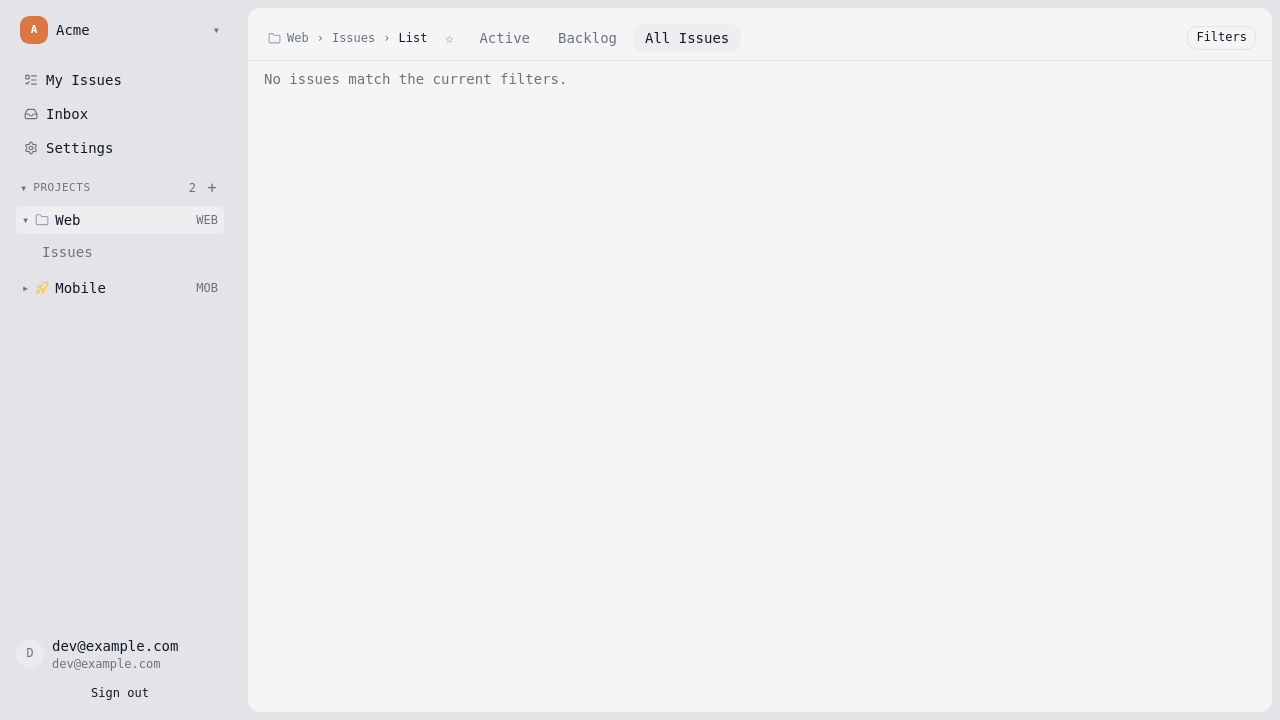
rail IA › backing out of creation returns to the project
Check: the button "▾ Web WEB" is shown, box top-left (16, 206), bottom-right (224, 234)
Click the button named "new project": x=212, y=188 top-left (200, 176), bottom-right (224, 200)
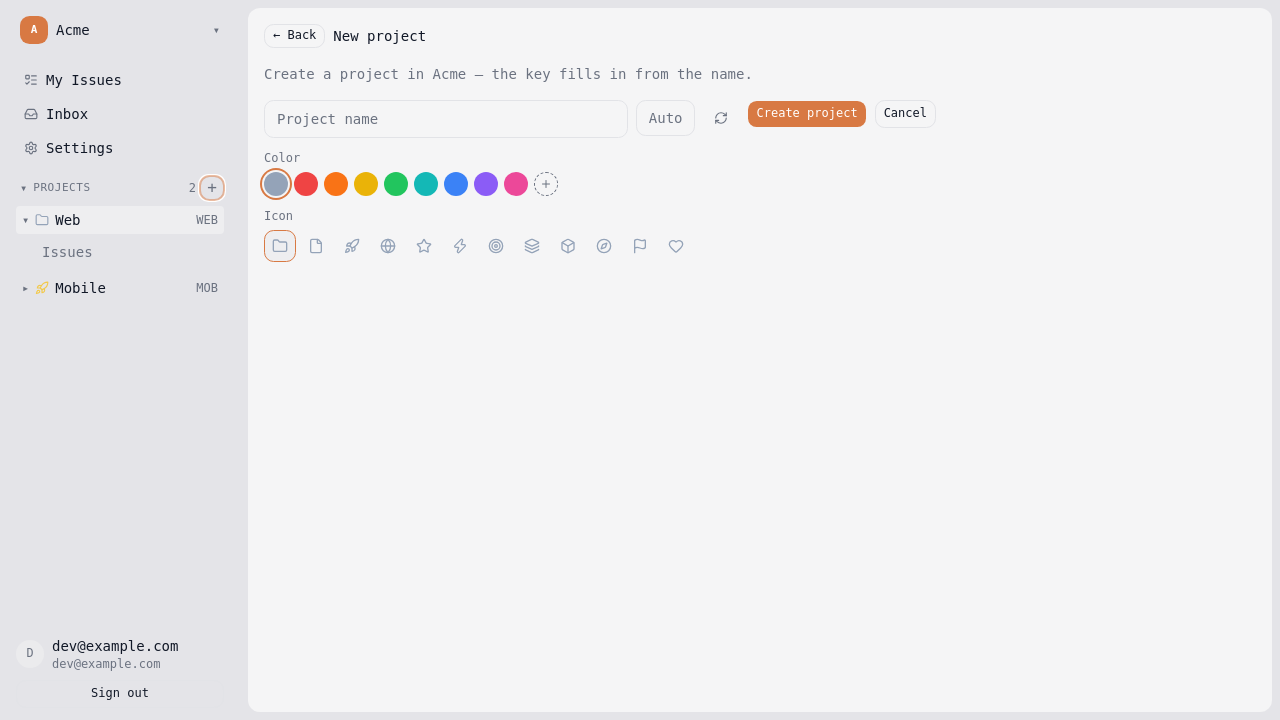
Check: the element "New project" is shown, box top-left (264, 24), bottom-right (936, 262)
Click the button "← Back": x=295, y=36 top-left (264, 24), bottom-right (325, 48)
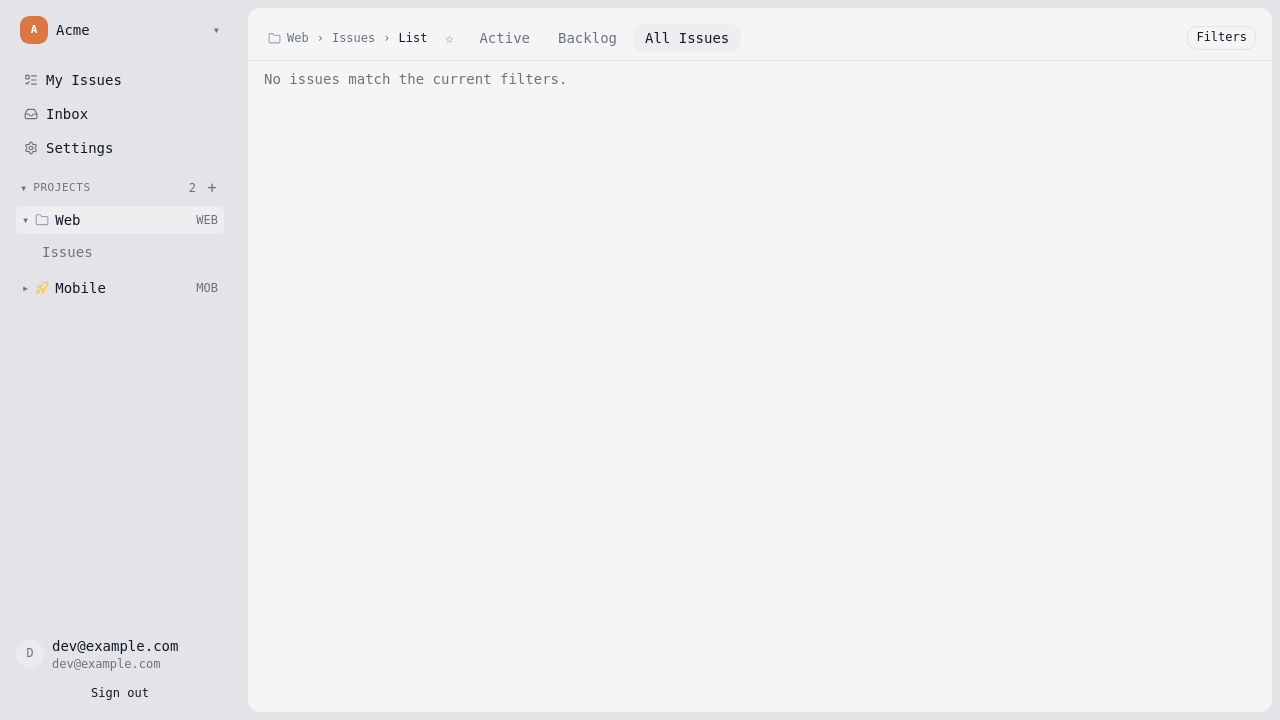
Check: the heading "New project" is gone
